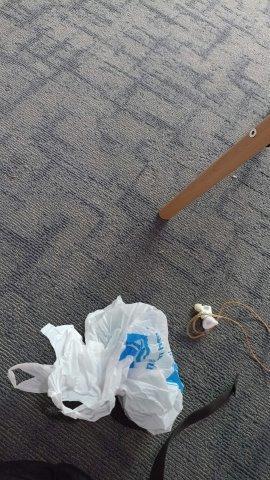plastik: (9, 297, 182, 433)
